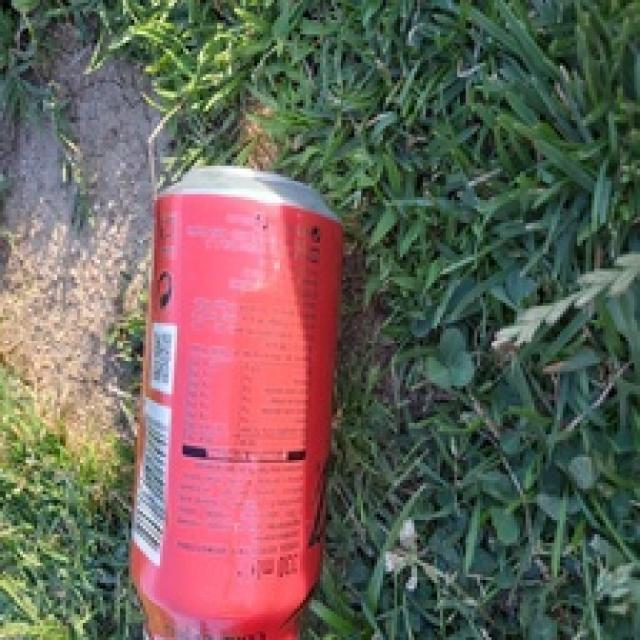Kaleng: (126, 163, 344, 637)
